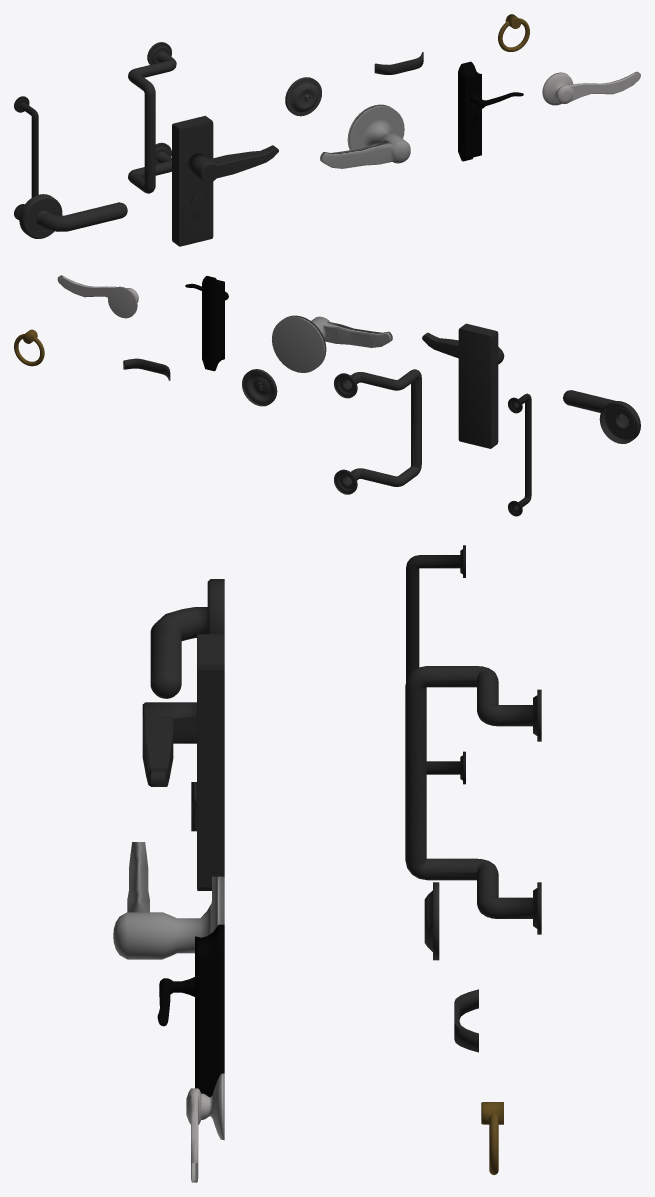
File: door_handles.glb
3 views of the same model, one above another, from view 1: azimuth 30°, elevation 25°; view 2: azimuth 150°, elevation 25°; view 3: azimuth 270°, elevation 25° (orthographic). The views are drawn at different scales.
Visible parts, largest first — view 1: Door Handle 2_0, Door Handle 3_1, Door Handle 7_5, Door Handle 1_8, Door Handle 4_2, Door Handle 5_3, Lock_6, Door Handle 6_4, Ring Handle_9, Metal Handle_7; view 2: Door Handle 2_0, Door Handle 3_1, Door Handle 7_5, Door Handle 4_2, Door Handle 1_8, Door Handle 5_3, Door Handle 6_4, Lock_6, Ring Handle_9, Metal Handle_7; view 3: Door Handle 7_5, Door Handle 2_0, Door Handle 3_1, Door Handle 4_2, Door Handle 1_8, Door Handle 6_4, Door Handle 5_3, Metal Handle_7, Lock_6, Ring Handle_9.
Boxes of the visible parts, bbox=[...] form: Door Handle 2_0: bbox=[172, 115, 278, 246]; Door Handle 3_1: bbox=[320, 104, 410, 168]; Door Handle 7_5: bbox=[128, 42, 176, 193]; Door Handle 1_8: bbox=[19, 194, 127, 238]; Door Handle 4_2: bbox=[458, 61, 523, 161]; Door Handle 5_3: bbox=[542, 71, 640, 105]; Lock_6: bbox=[285, 77, 321, 116]; Door Handle 6_4: bbox=[14, 96, 38, 219]; Ring Handle_9: bbox=[498, 14, 529, 51]; Metal Handle_7: bbox=[374, 52, 423, 74]; Door Handle 2_0: bbox=[422, 323, 504, 448]; Door Handle 3_1: bbox=[272, 315, 392, 372]; Door Handle 7_5: bbox=[334, 369, 421, 494]; Door Handle 4_2: bbox=[185, 276, 228, 371]; Door Handle 1_8: bbox=[563, 390, 640, 443]; Door Handle 5_3: bbox=[57, 275, 138, 318]; Door Handle 6_4: bbox=[508, 393, 531, 516]; Lock_6: bbox=[242, 369, 277, 406]; Ring Handle_9: bbox=[14, 329, 44, 366]; Metal Handle_7: bbox=[123, 358, 170, 380]; Door Handle 7_5: bbox=[405, 666, 541, 934]; Door Handle 2_0: bbox=[142, 634, 224, 890]; Door Handle 3_1: bbox=[113, 842, 224, 959]; Door Handle 4_2: bbox=[157, 924, 224, 1097]; Door Handle 1_8: bbox=[150, 579, 224, 698]; Door Handle 6_4: bbox=[406, 545, 465, 784]; Door Handle 5_3: bbox=[186, 1073, 224, 1182]; Metal Handle_7: bbox=[454, 989, 478, 1052]; Lock_6: bbox=[424, 882, 439, 960]; Ring Handle_9: bbox=[481, 1102, 503, 1174].
Size of the model in its own units: 48.48 by 9.48 by 15.33.
Materials: 8 (3 with a texture image).
